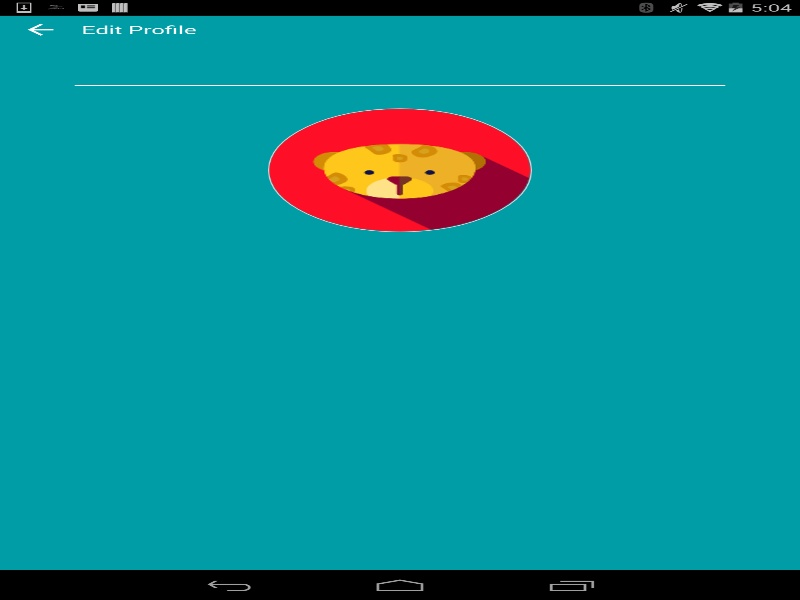Input: (74, 63, 725, 82)
